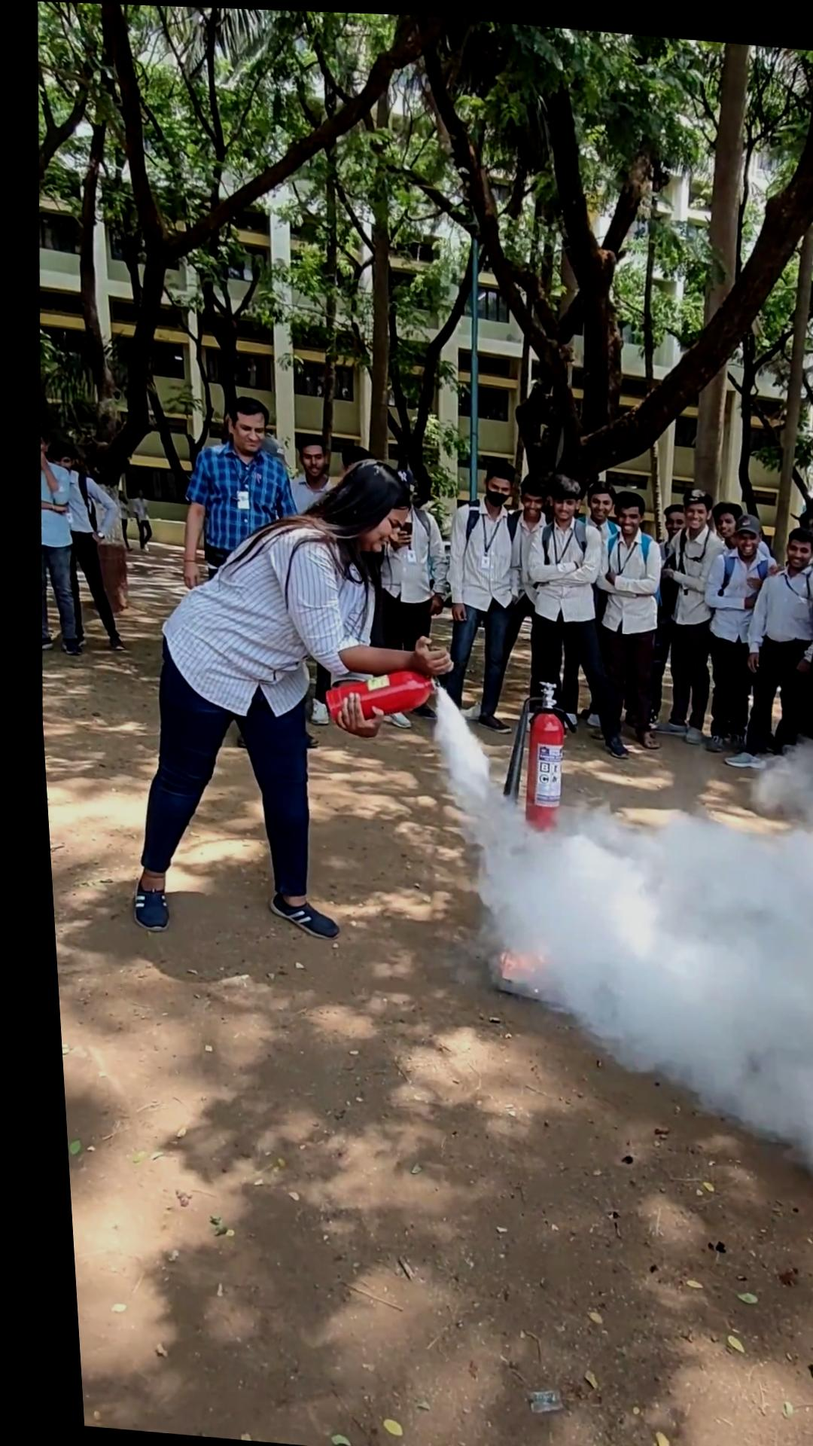FireExtinguisher: (299, 634, 451, 777), (486, 676, 592, 850)
